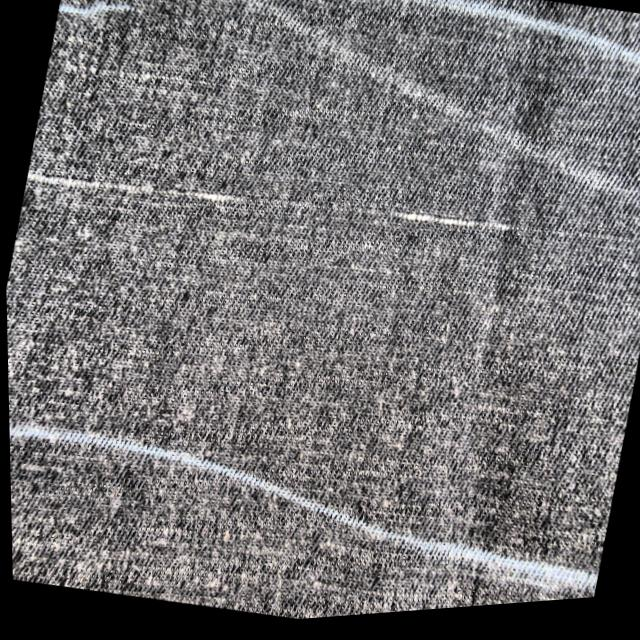Hole: (155, 128, 285, 243), (369, 172, 504, 278)
